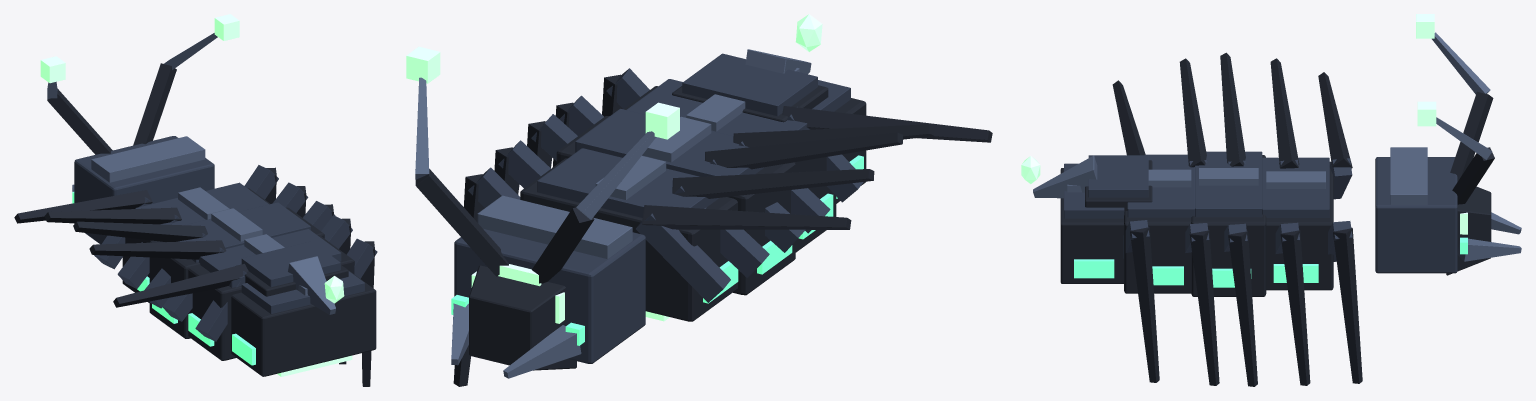
File: crawler.glb
3 renders of one model, left to right at view 1: azimuth 30°, elevation 25°; view 2: azimuth 150°, elevation 25°; view 3: azimuth 270°, elevation 25°, orthographic. The views are drawn at different scales.
Parts seen in each view (by area): view 1: body, head, leg.FR, leg.BR, tail, ear.L, leg.FL, leg.BL, ear.R; view 2: body, head, leg.FR, tail, leg.BR, leg.FL, ear.L, ear.R, leg.BL; view 3: body, head, leg.FL, leg.BL, leg.FR, tail, leg.BR, ear.R, ear.L.
Part boxes in pixels (x1=…): body: x1=122, y1=182, x2=376, y2=376; head: x1=72, y1=136, x2=214, y2=244; leg.FR: x1=14, y1=190, x2=207, y2=308; leg.BR: x1=89, y1=240, x2=248, y2=341; tail: x1=235, y1=241, x2=348, y2=314; ear.L: x1=133, y1=14, x2=239, y2=145; leg.FL: x1=244, y1=165, x2=335, y2=230; leg.BL: x1=321, y1=215, x2=377, y2=386; ear.R: x1=40, y1=56, x2=112, y2=154; body: x1=520, y1=68, x2=866, y2=321; head: x1=451, y1=195, x2=645, y2=378; leg.FR: x1=636, y1=132, x2=902, y2=302; tail: x1=672, y1=14, x2=828, y2=122; leg.BR: x1=733, y1=106, x2=992, y2=233; leg.FL: x1=453, y1=114, x2=577, y2=386; ear.L: x1=406, y1=46, x2=508, y2=276; ear.R: x1=532, y1=102, x2=679, y2=283; leg.BL: x1=552, y1=68, x2=649, y2=167; body: x1=1060, y1=151, x2=1333, y2=296; head: x1=1375, y1=147, x2=1521, y2=275; leg.FL: x1=1224, y1=221, x2=1362, y2=386; leg.BL: x1=1123, y1=220, x2=1219, y2=385; leg.FR: x1=1220, y1=52, x2=1352, y2=199; tail: x1=1021, y1=155, x2=1152, y2=211; leg.BR: x1=1112, y1=58, x2=1207, y2=167; ear.R: x1=1416, y1=14, x2=1493, y2=181; ear.L: x1=1417, y1=101, x2=1494, y2=204.
Bounding box in the file's own units: 1 × 0.924 × 1.52.
